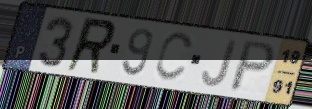3: (37, 15, 75, 69)
9: (121, 27, 154, 78)
C: (152, 31, 196, 84)
J: (200, 38, 239, 89)
P: (226, 39, 279, 94)
R: (63, 15, 119, 77)
